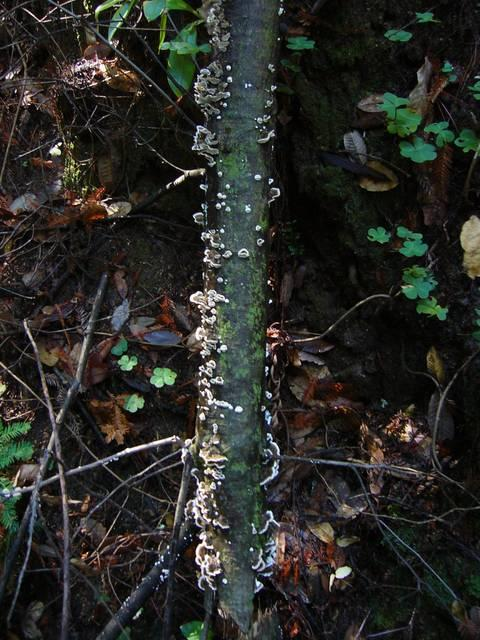poisonous_mushroom: (188, 24, 282, 628), (318, 128, 400, 194)
